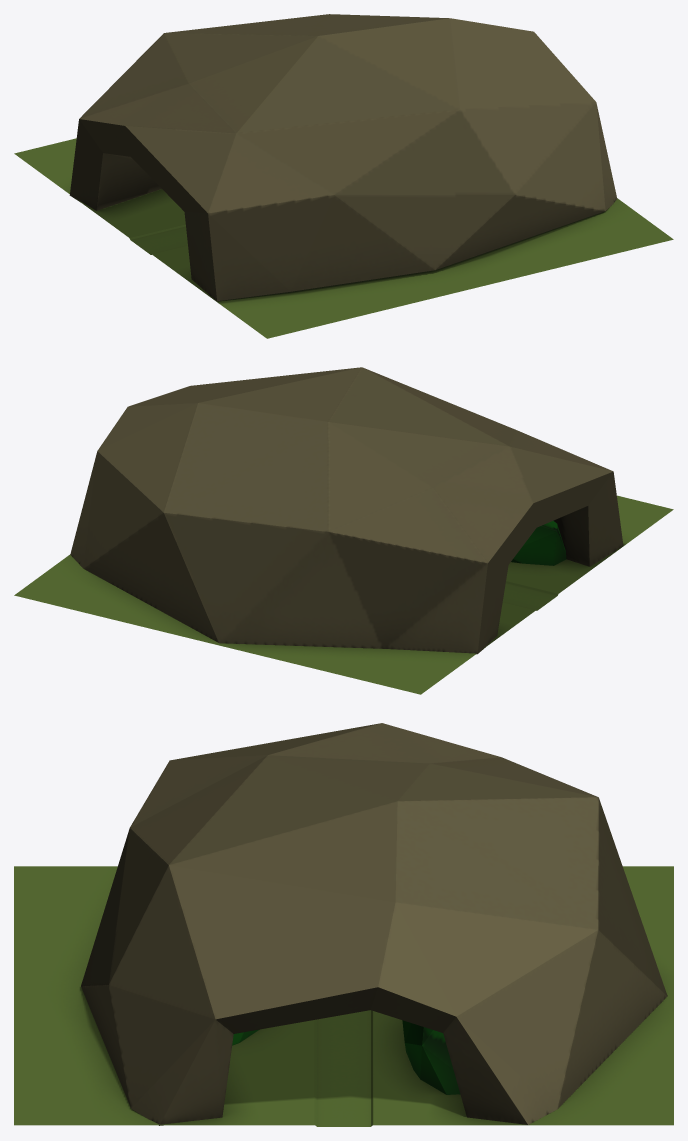
The model's file is cave.fbx.
3 views of the same model, one above another, from view 1: azimuth 30°, elevation 25°; view 2: azimuth 150°, elevation 25°; view 3: azimuth 270°, elevation 25° (orthographic). The views are drawn at different scales.
Visible parts, largest first — view 1: cave; view 2: cave; view 3: cave.
Boxes of the visible parts, left/top/right/bottom form: cave: left=14, top=14, right=673, bottom=338; cave: left=14, top=367, right=673, bottom=694; cave: left=14, top=723, right=673, bottom=1126.
Bounding box in the file's own units: 16799 × 6208 × 18053.
